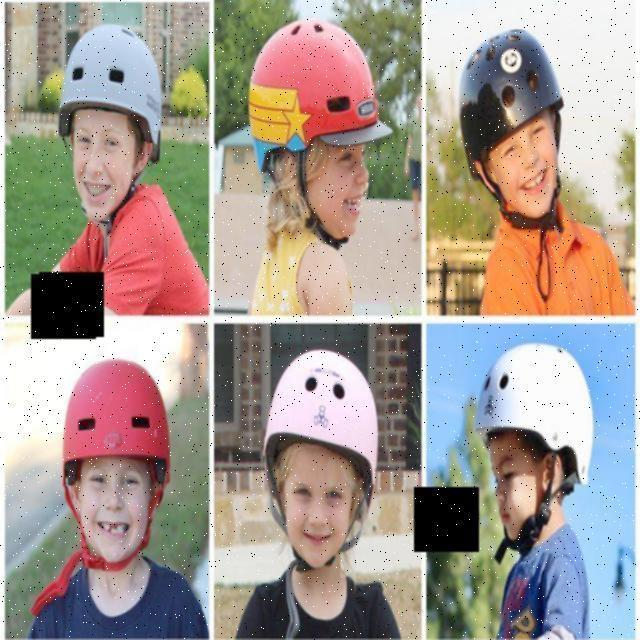helmet: (250, 20, 394, 254), (480, 340, 596, 558), (264, 346, 376, 570), (66, 358, 172, 574), (456, 28, 566, 232), (58, 20, 160, 230)
